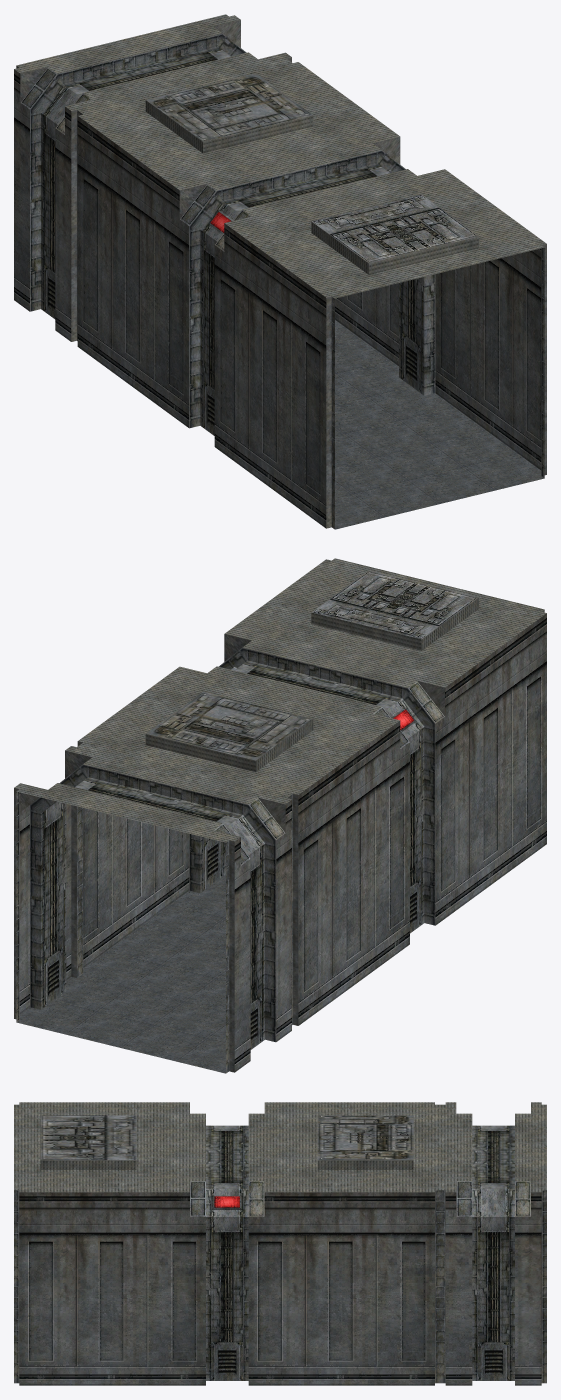
Rendered from poi_all_impl_bunker_abandoned_s01_r27_connector2_mesh.fbx.
3 views of the same model, one above another, from view 1: azimuth 30°, elevation 25°; view 2: azimuth 150°, elevation 25°; view 3: azimuth 270°, elevation 25° (orthographic). The views are drawn at different scales.
Visible parts, largest first — view 1: mesh_node; view 2: mesh_node; view 3: mesh_node.
Part boxes in pixels (left/top/right/bottom): mesh_node: left=14, top=14, right=546, bottom=529; mesh_node: left=14, top=558, right=546, bottom=1073; mesh_node: left=14, top=1102, right=546, bottom=1385.
Size of the model in its own units: 4 by 4.2 by 10.
